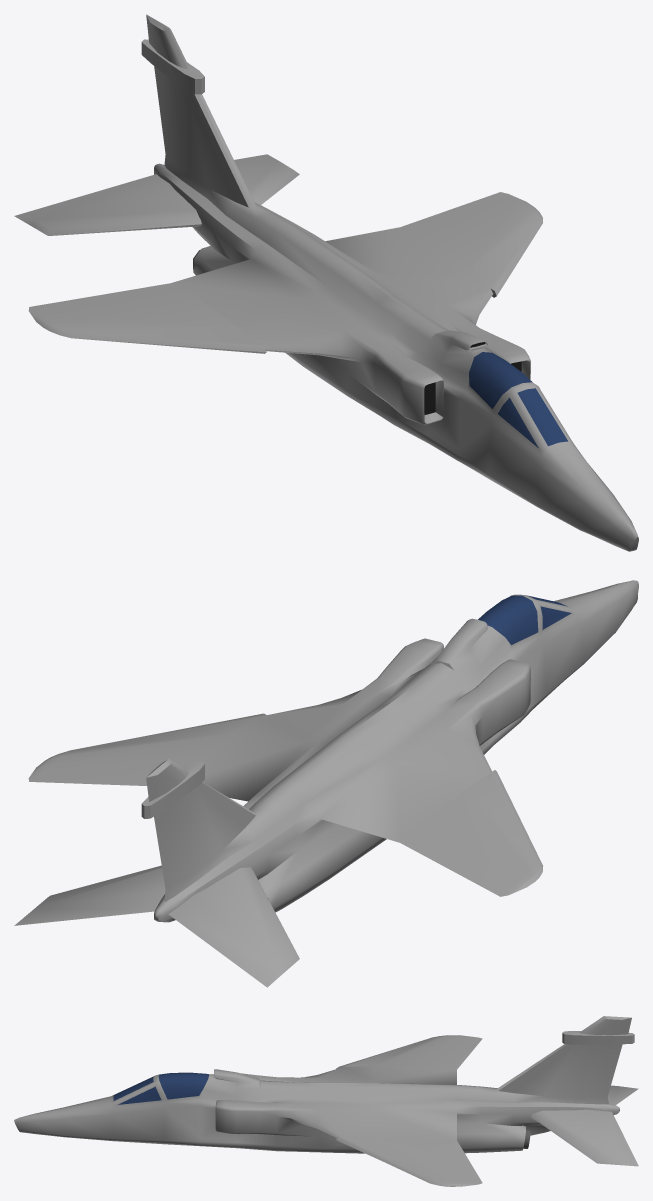
File: JAGUAR.glb
3 views of the same model, one above another, from view 1: azimuth 30°, elevation 25°; view 2: azimuth 150°, elevation 25°; view 3: azimuth 270°, elevation 25° (orthographic). The views are drawn at different scales.
Visible parts, largest first — view 1: jaguar; view 2: jaguar; view 3: jaguar.
Boxes of the visible parts, x1,y1,x2,y2 form: jaguar: (14,14,638,551); jaguar: (14,580,638,987); jaguar: (14,1016,638,1186).
Size of the model in its own units: 8.8 by 3.53 by 15.4.
